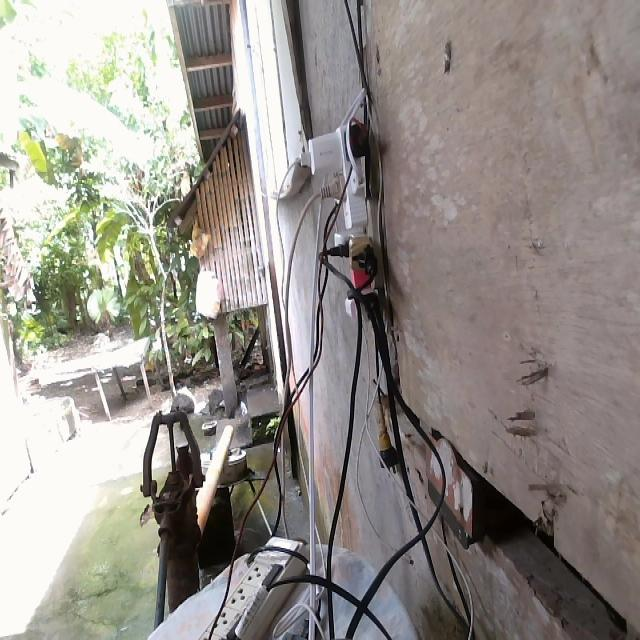-: (297, 113, 384, 324)
